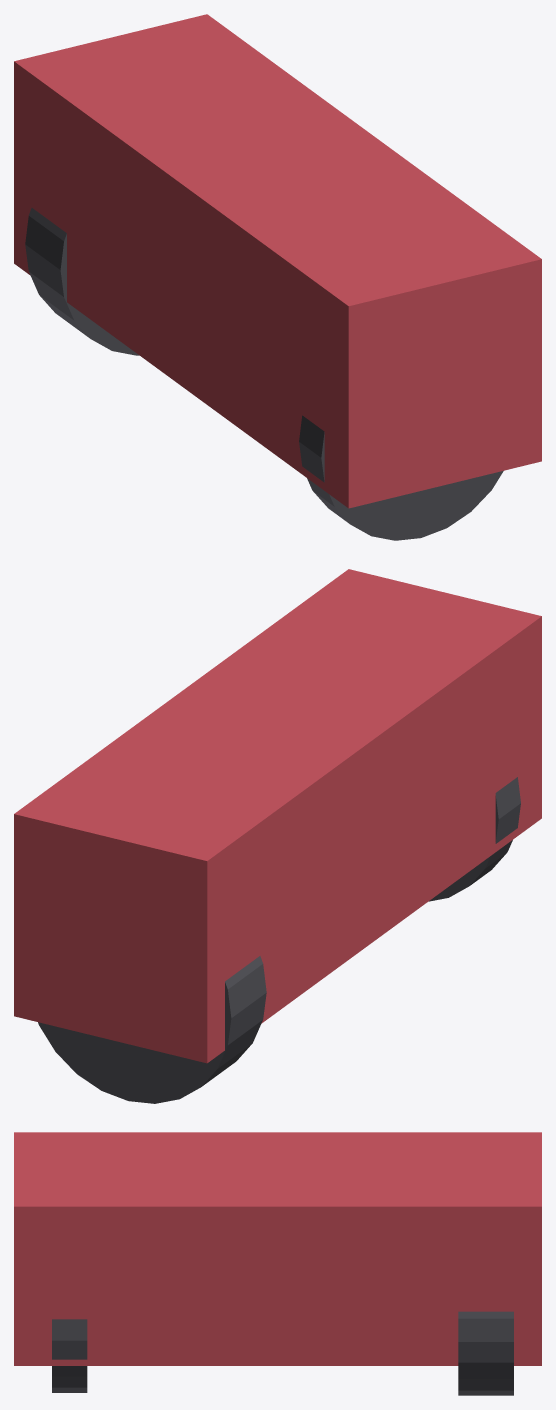
The model's file is test_proxy.glb.
3 renders of one model, top to bottom at view 1: azimuth 30°, elevation 25°; view 2: azimuth 150°, elevation 25°; view 3: azimuth 270°, elevation 25°, orthographic. The views are drawn at different scales.
Visible parts, largest first — view 1: Chassis_Body, Wheel_Front, Wheel_Rear; view 2: Chassis_Body, Wheel_Rear, Wheel_Front; view 3: Chassis_Body, Wheel_Rear, Wheel_Front.
Boxes of the visible parts, bbox=[...] form: Chassis_Body: bbox=[14, 14, 541, 508]; Wheel_Front: bbox=[299, 415, 503, 540]; Wheel_Rear: bbox=[25, 208, 139, 355]; Chassis_Body: bbox=[14, 569, 541, 1063]; Wheel_Rear: bbox=[38, 956, 266, 1103]; Wheel_Front: bbox=[429, 777, 520, 901]; Chassis_Body: bbox=[14, 1132, 541, 1365]; Wheel_Rear: bbox=[458, 1311, 513, 1395]; Wheel_Front: bbox=[52, 1319, 87, 1392].
Size of the model in its own units: 0.64 by 0.82 by 1.8.
